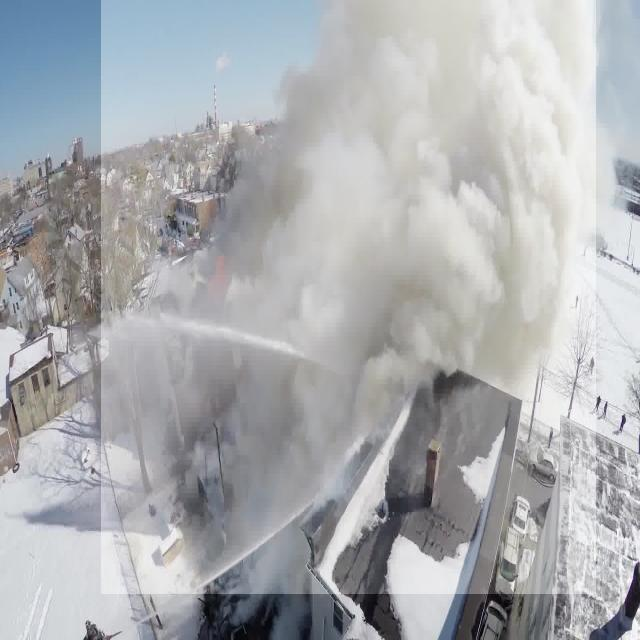Smoke: (101, 0, 596, 594)
